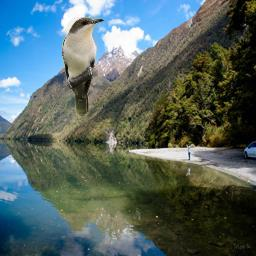Cuckoo: (62, 17, 105, 118)
